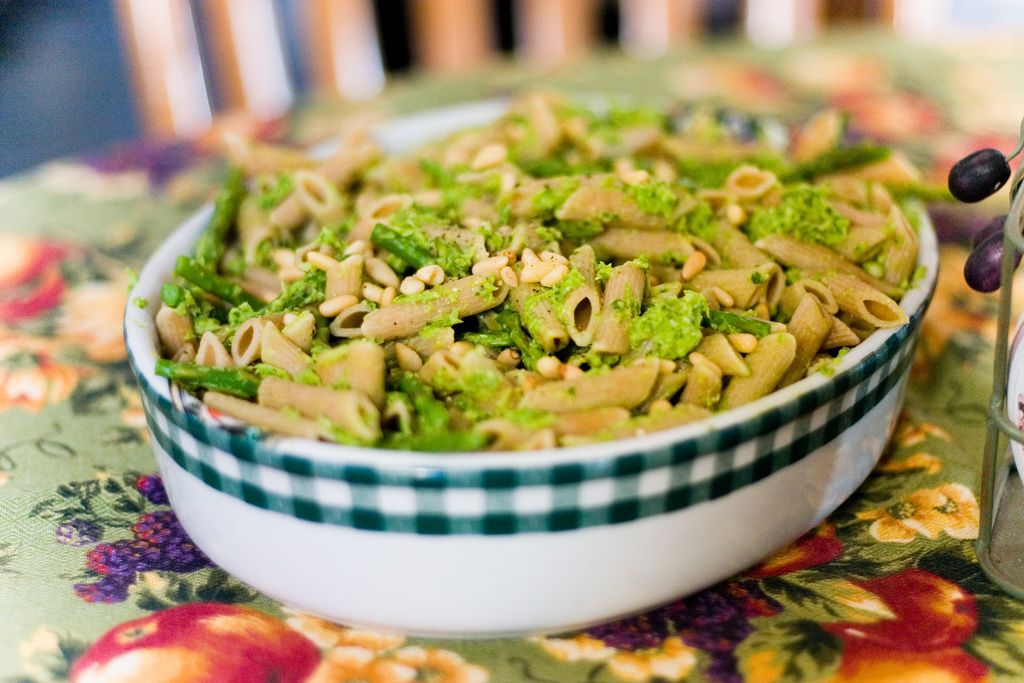pasta: (106, 72, 995, 608)
